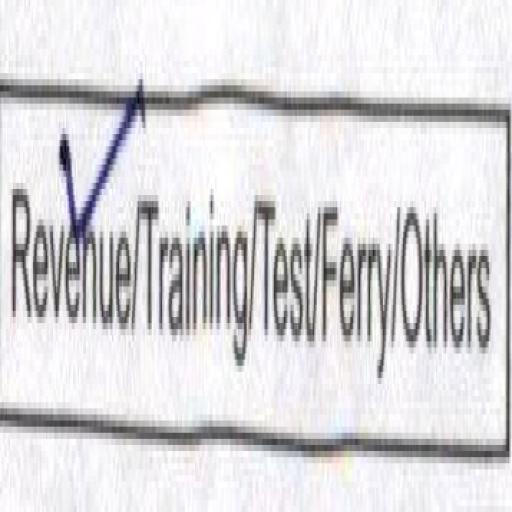check: (2, 43, 136, 445)
